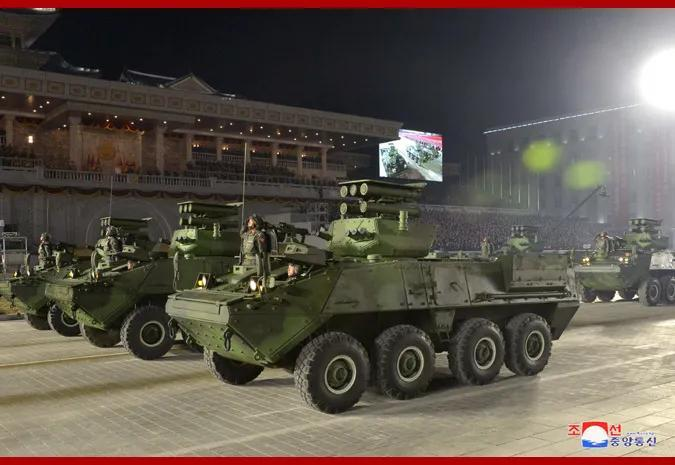MIL_IFV: (165, 175, 578, 413), (580, 215, 675, 302)
